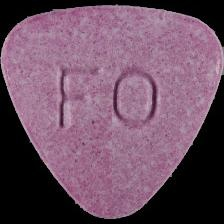55154-4623: (0, 0, 224, 224)
